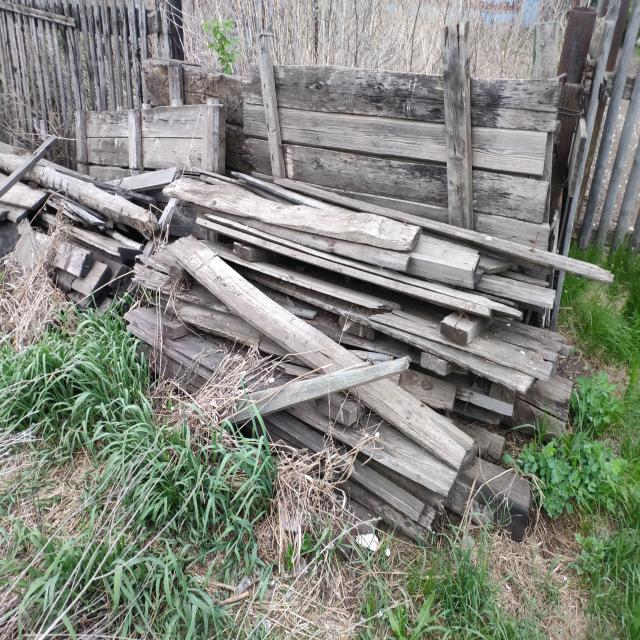entulho: (156, 190, 568, 417), (251, 73, 566, 271), (338, 360, 528, 545), (33, 156, 182, 319), (193, 178, 382, 247), (74, 111, 229, 186), (0, 131, 60, 229)
